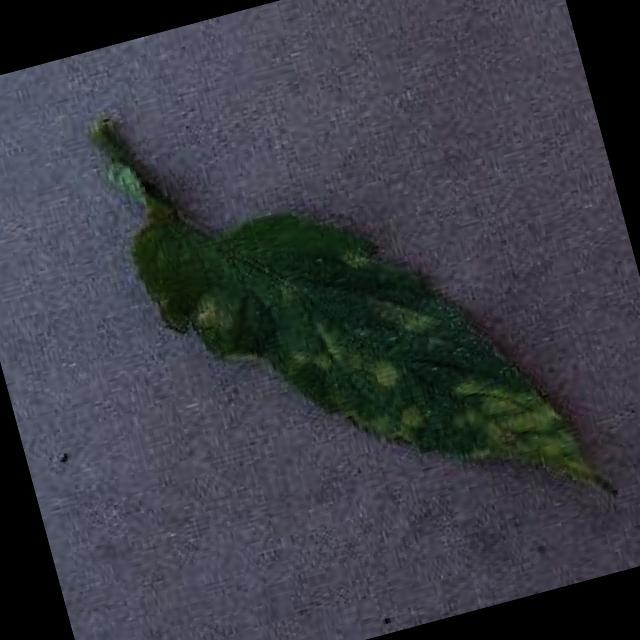Tomato mold leaf: (125, 117, 616, 598)
